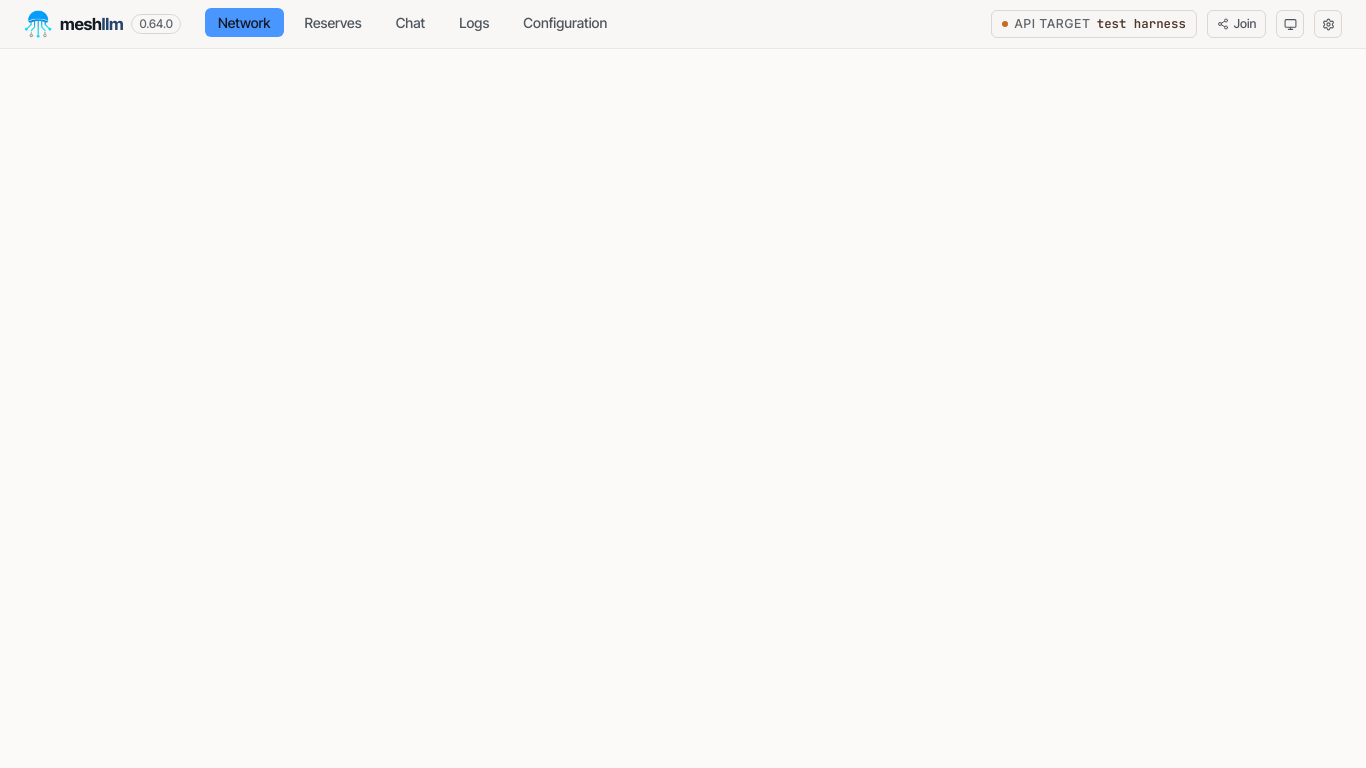
Test: TopNav › opens join instructions and copies the selected join command
The image size is (1366, 768).
Hover over the button with aria-label "Mesh join and invite instructions" at (1236, 24), box [1207, 10, 1266, 38]
Expected: the heading "Join or invite" is not shown
Click the button with aria-label "Mesh join and invite instructions" at (1236, 24), box [1207, 10, 1266, 38]
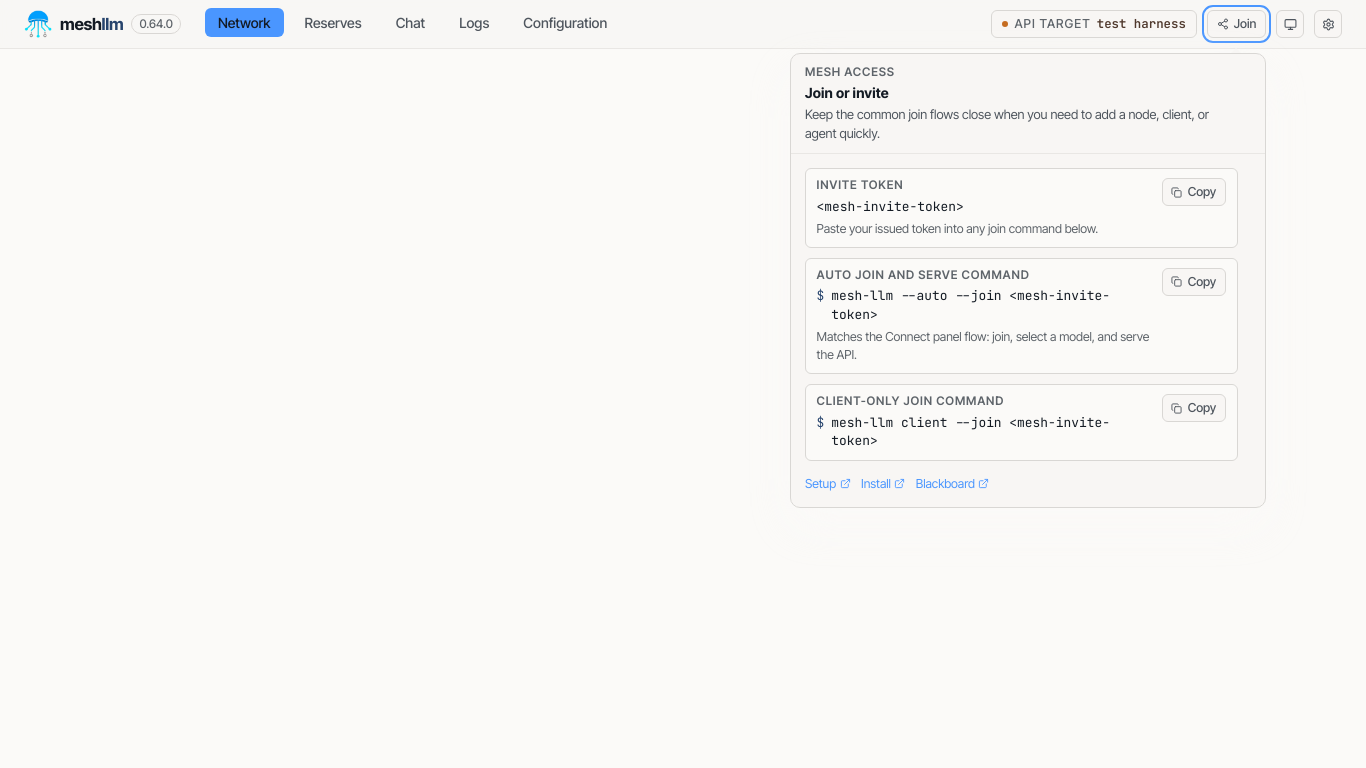
Expected: the heading "Join or invite" is shown, [805, 84, 889, 101]
Click the button with aria-label "Copy Client-only join command" at (1194, 408), box [1162, 394, 1226, 422]
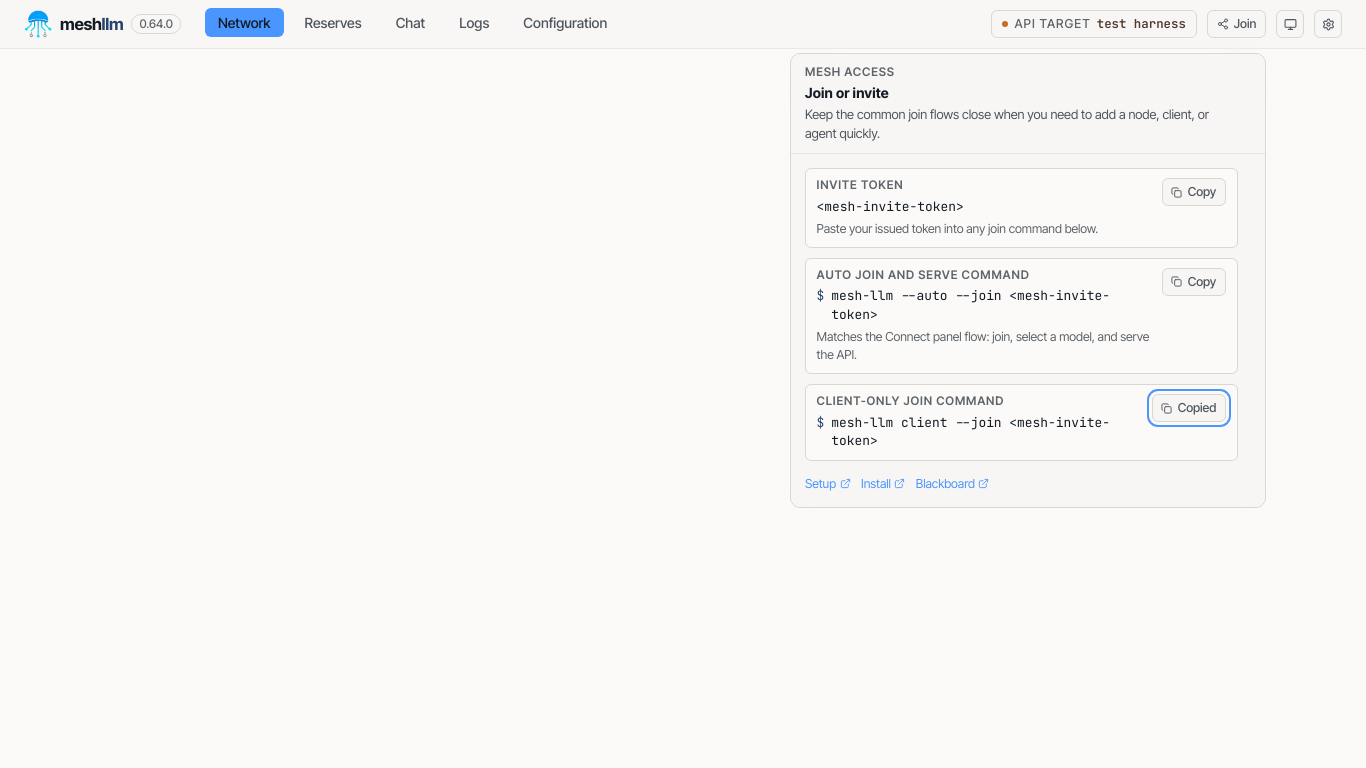
Expected: the button with aria-label "Copy Client-only join command" reads "Copied", [1152, 394, 1226, 422]
